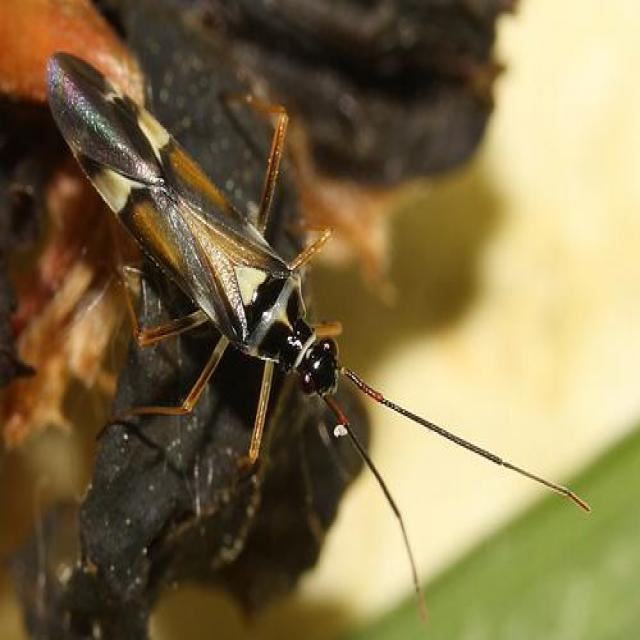Miridae-Adult-: (36, 45, 602, 538)
